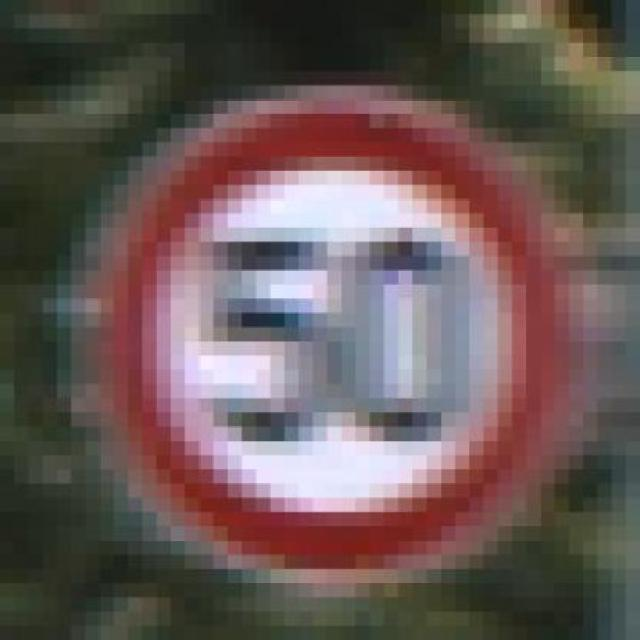Speed limit 50: (100, 89, 560, 576)
